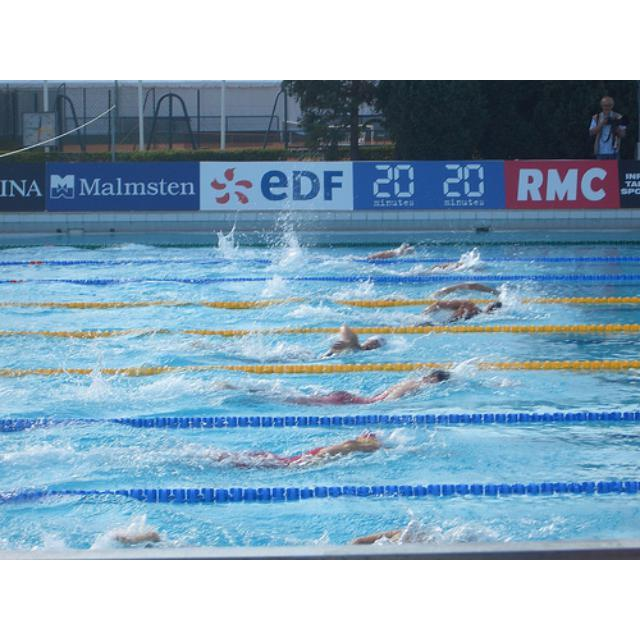human: (316, 369, 450, 407), (284, 432, 391, 469), (319, 333, 389, 361), (434, 298, 503, 326)
